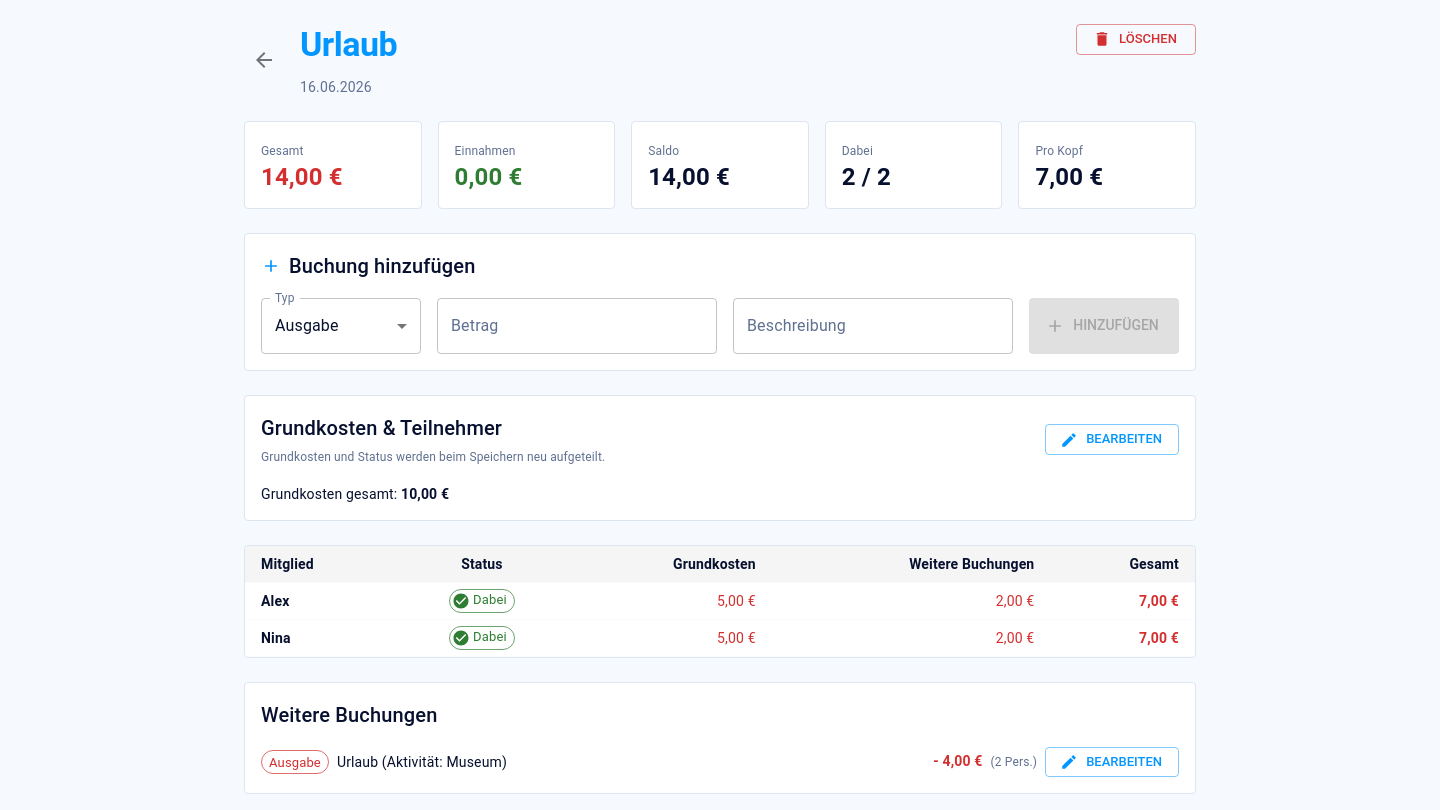
Test: TripDetailsPage trip setup › keeps the user on the trip when deletion conflicts
Expected: the heading "Grundkosten & Teilnehmer" is shown, [261,416,502,440]
Click the button "Löschen".
click(1136, 39)  # box [1076,24,1196,55]
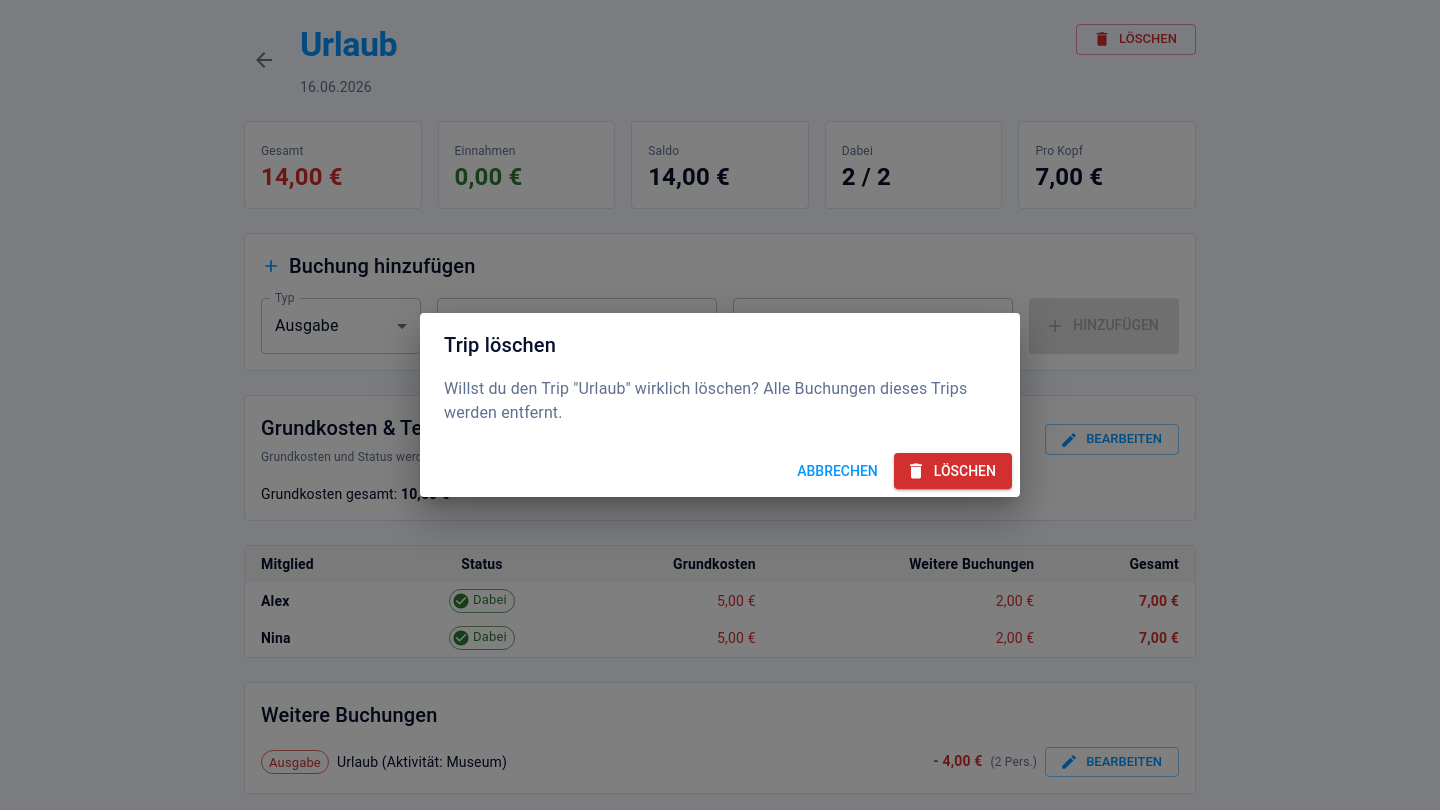
Click the button "Löschen".
click(953, 471)  # box [894,453,1012,489]
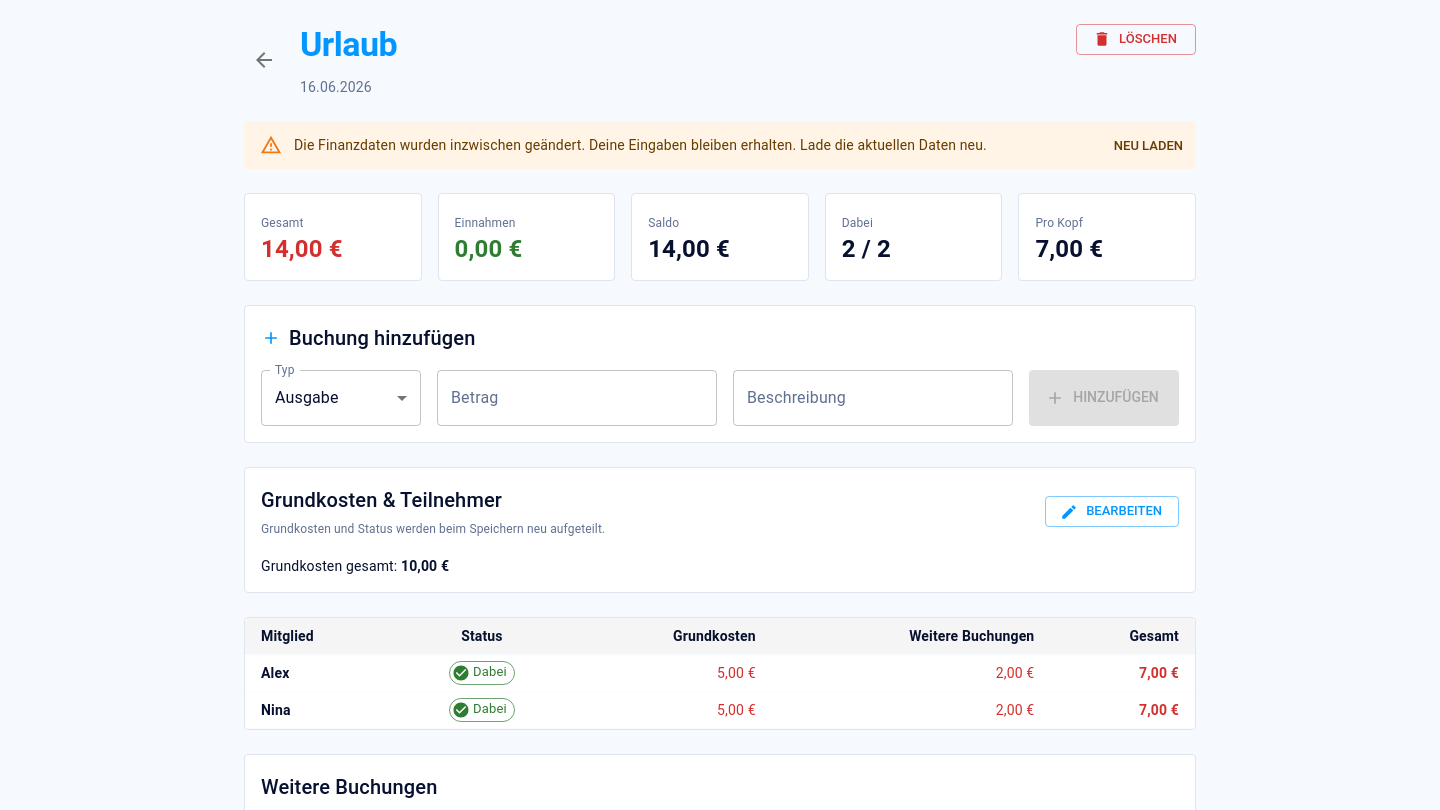
Expected: the text "Die Finanzdaten wurden inzwischen geändert" is shown, [294,137,987,153]
